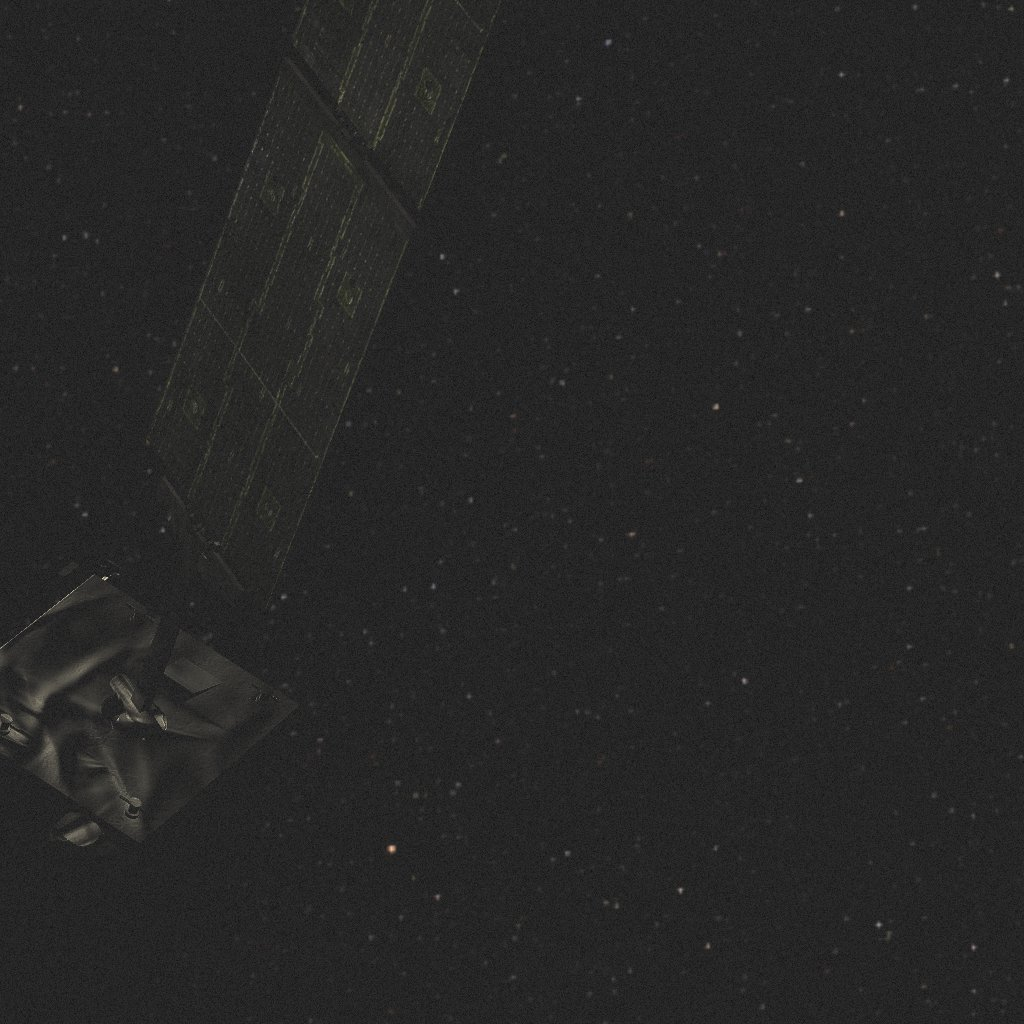smart_1: (28, 11, 502, 985)
